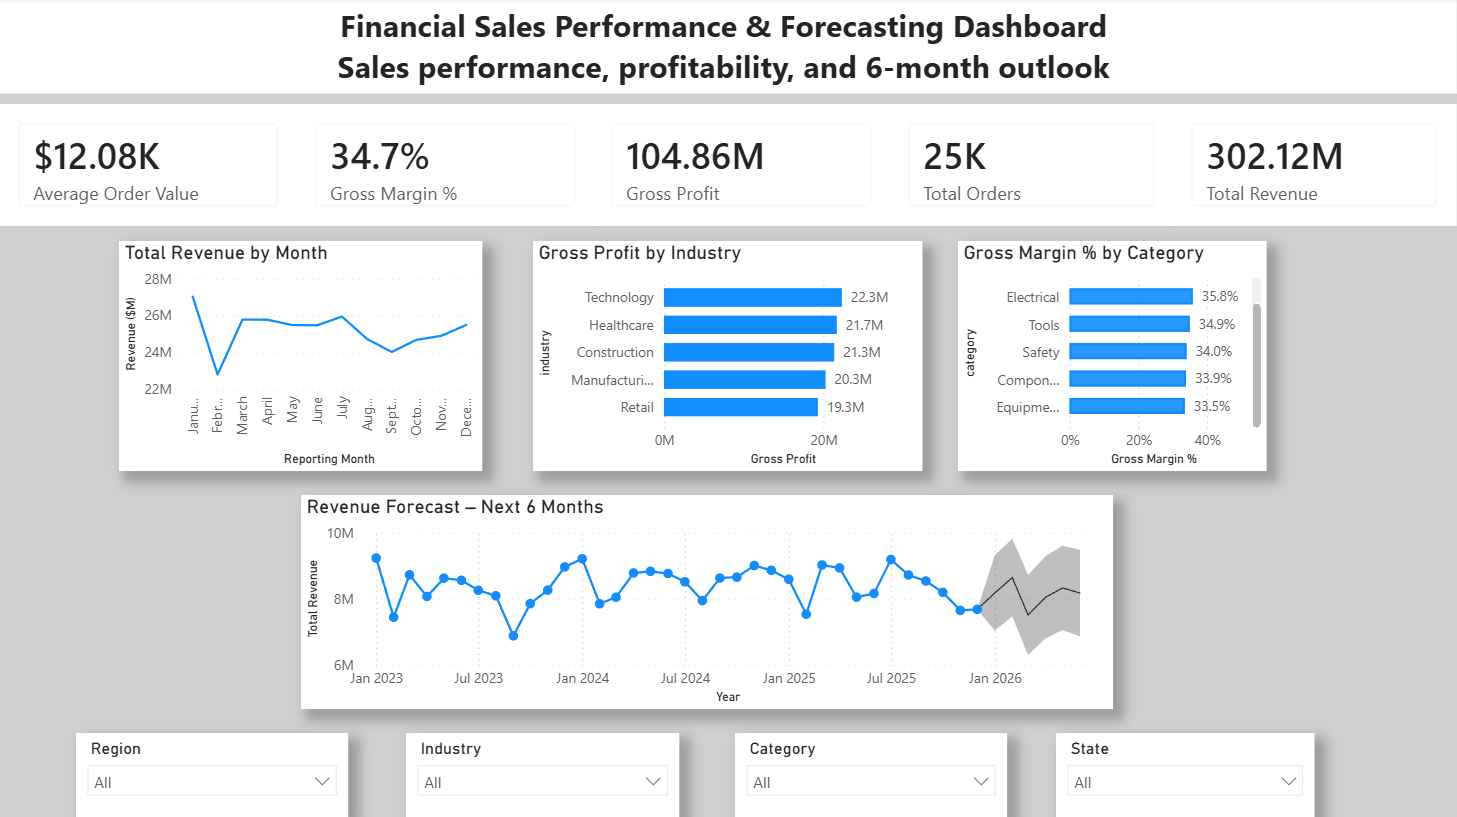

The dashboard page shown, as its layout file describes it:
{"tool":"powerbi","page":{"name":"Executive Overview","canvas":[1280,720],"ordinal":0},"visuals":[{"type":"cardVisual","fields":{"Data":["public vw_sales_detail.Average Order Value"]},"box":[0,93.1,262.3,107.4],"z":0},{"type":"textbox","box":[0,0,1280,84.1],"z":1000},{"type":"cardVisual","fields":{"Data":["public vw_sales_detail.Total Orders"]},"box":[781.4,93.1,250.6,107.4],"z":2000},{"type":"cardVisual","fields":{"Data":["public vw_sales_detail.Total Revenue"]},"box":[1030.3,93.1,249.7,107.4],"z":3000},{"type":"cardVisual","fields":{"Data":["public vw_sales_detail.Gross Profit"]},"box":[521,93.1,262.3,107.4],"z":4000},{"type":"cardVisual","fields":{"Data":["public vw_sales_detail.Gross Margin %"]},"box":[260.5,93.1,262.3,107.4],"z":5000},{"type":"lineChart","fields":{"Category":["public vw_sales_detail.order_date.Variation.Date Hierarchy.Year","public vw_sales_detail.order_date.Variation.Date Hierarchy.Quarter","public vw_sales_detail.order_date.Variation.Date Hierarchy.Month","public vw_sales_detail.order_date.Variation.Date Hierarchy.Day"],"Y":["public vw_sales_detail.Total Revenue"]},"box":[105.6,213,318.7,202.3],"z":6000},{"type":"clusteredBarChart","title":"Gross Profit by Industry","fields":{"Category":["public vw_sales_detail.industry"],"Y":["public vw_sales_detail.Gross Profit"]},"box":[469,213,341.9,202.3],"z":8000},{"type":"clusteredBarChart","title":"Gross Margin % by Category","fields":{"Category":["public vw_sales_detail.category"],"Y":["public vw_sales_detail.Gross Margin %"]},"box":[842.3,213,271.2,202.3],"z":9000},{"type":"slicer","fields":{"Values":["public vw_sales_detail.region"]},"box":[68,645.4,239,74.3],"z":11000},{"type":"slicer","fields":{"Values":["public vw_sales_detail.industry"]},"box":[357.1,645.4,239.9,74.3],"z":12000},{"type":"slicer","fields":{"Values":["public vw_sales_detail.category"]},"box":[646.3,645.4,239,74.3],"z":13000},{"type":"slicer","fields":{"Values":["public vw_sales_detail.state"]},"box":[928.2,645.4,227.4,74.3],"z":14000},{"type":"lineChart","title":"Revenue Forecast – Next 6 Months","fields":{"Category":["public vw_sales_detail.Reporting Month.Variation.Date Hierarchy.Year","public vw_sales_detail.Reporting Month.Variation.Date Hierarchy.Quarter","public vw_sales_detail.Reporting Month.Variation.Date Hierarchy.Month","public vw_sales_detail.Reporting Month.Variation.Date Hierarchy.Day"],"Y":["public vw_sales_detail.Total Revenue"]},"box":[265.2,436.4,713,187.9],"z":15000}]}

Visuals, with their boxes in screenshot pixels (x1, y1, x2, y2), scaled from the page's 1280x720 canvas onto the 1457x817 screenshot:
cardVisual - public vw_sales_detail.Average Order Value: x1=0, y1=106, x2=299, y2=228
textbox: x1=0, y1=0, x2=1456, y2=95
cardVisual - public vw_sales_detail.Total Orders: x1=889, y1=106, x2=1175, y2=228
cardVisual - public vw_sales_detail.Total Revenue: x1=1173, y1=106, x2=1456, y2=228
cardVisual - public vw_sales_detail.Gross Profit: x1=593, y1=106, x2=892, y2=228
cardVisual - public vw_sales_detail.Gross Margin %: x1=297, y1=106, x2=595, y2=228
lineChart - public vw_sales_detail.order_date.Variation.Date Hierarchy.Year x public vw_sales_detail.order_date.Variation.Date Hierarchy.Quarter: x1=120, y1=242, x2=483, y2=471
"Gross Profit by Industry" clusteredBarChart: x1=534, y1=242, x2=923, y2=471
"Gross Margin % by Category" clusteredBarChart: x1=959, y1=242, x2=1267, y2=471
slicer - public vw_sales_detail.region: x1=77, y1=732, x2=349, y2=816
slicer - public vw_sales_detail.industry: x1=406, y1=732, x2=680, y2=816
slicer - public vw_sales_detail.category: x1=736, y1=732, x2=1008, y2=816
slicer - public vw_sales_detail.state: x1=1057, y1=732, x2=1315, y2=816
"Revenue Forecast – Next 6 Months" lineChart: x1=302, y1=495, x2=1113, y2=708
